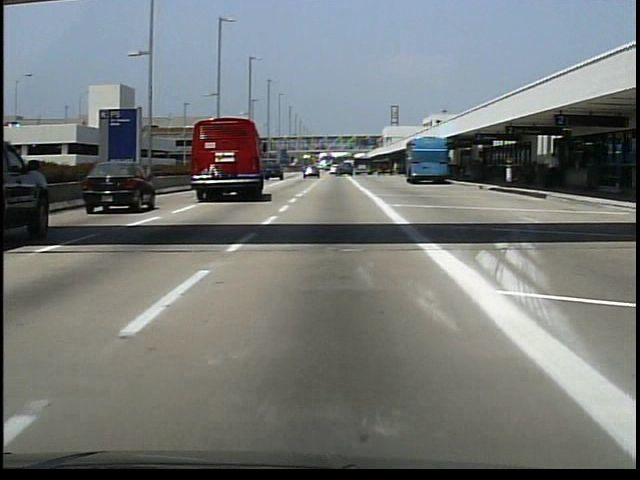person: (546, 153, 560, 190)
